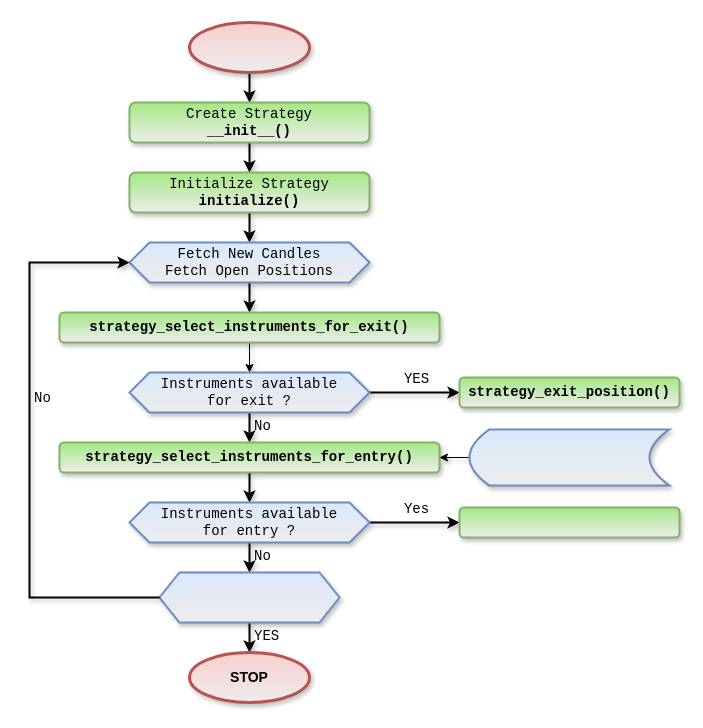
This 703x728 diagram has some shape labels left out. The centre of each missing label's shape, as x and y in pixels:
List of available instrument from config: (x=570, y=458)
START: (x=250, y=48)
strategy_enter_position(): (x=570, y=523)
Trading Session Completed: (x=250, y=598)
